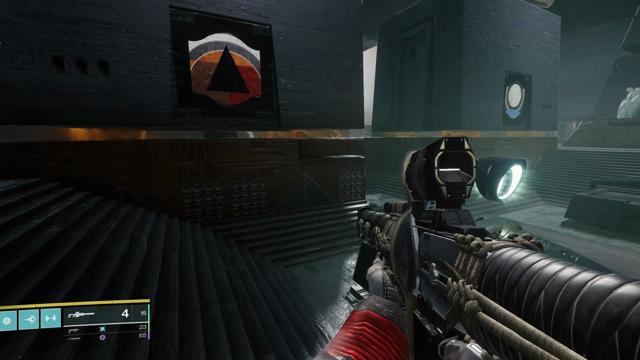pyramid: (188, 33, 262, 105)
traveler: (504, 80, 526, 119)
